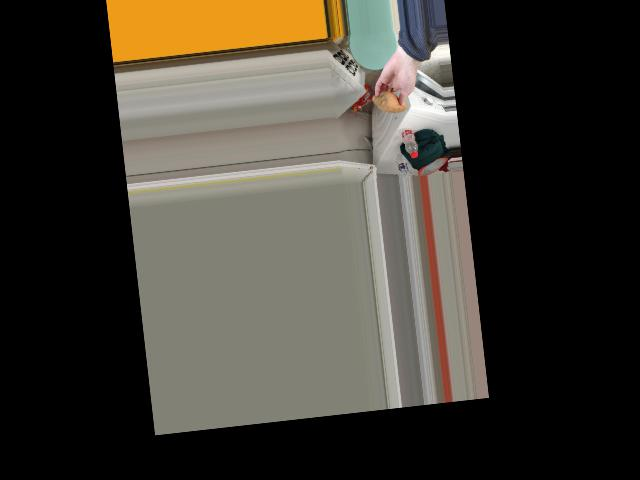sweet_potato: (375, 86, 406, 114)
